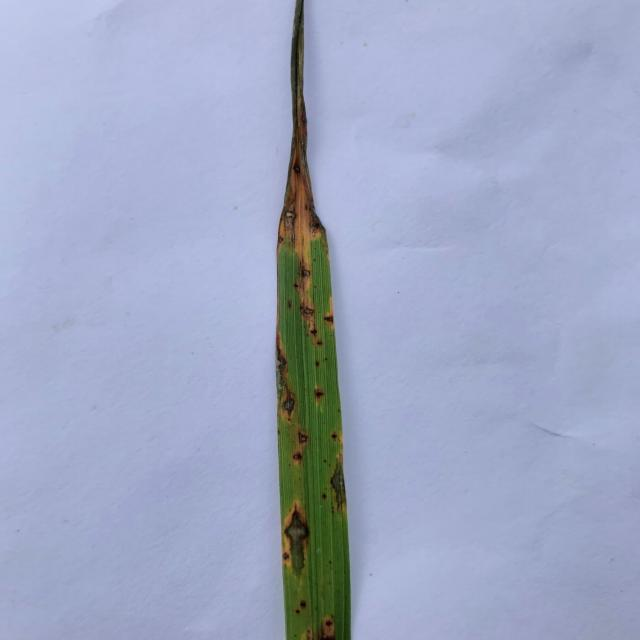leaf blast: (284, 498, 314, 583), (290, 257, 316, 324), (285, 428, 314, 468), (277, 188, 299, 232), (311, 610, 342, 640), (332, 459, 347, 516)
